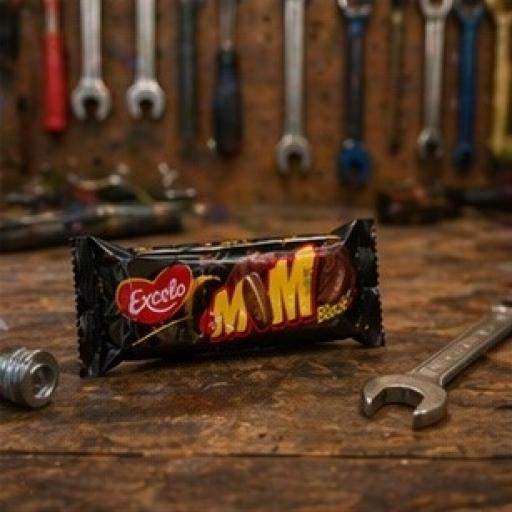MOMO: (54, 193, 455, 423)
